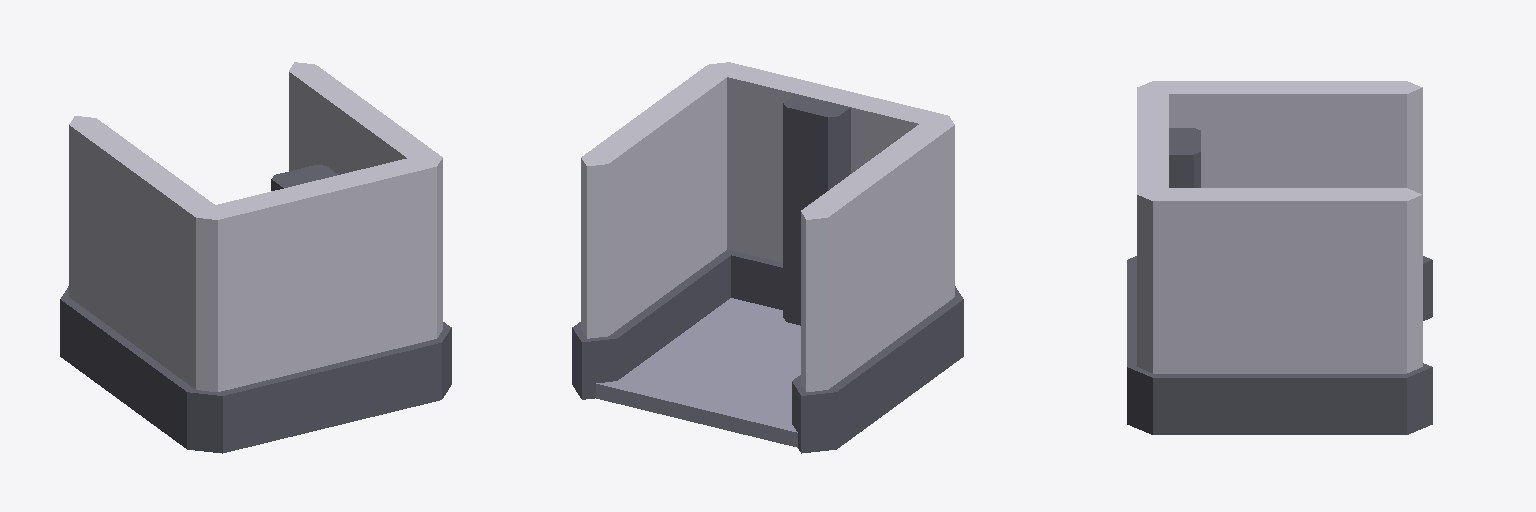
File: sm_hallway_end_01.obj
3 views of the same model, side by side, from view 1: azimuth 30°, elevation 25°; view 2: azimuth 150°, elevation 25°; view 3: azimuth 270°, elevation 25° (orthographic).
Parts seen in each view (by area): view 1: wall_02_179, wall_01_172, wall_01_176; view 2: wall_01_172, wall_01_176, wall_02_179, floor_square_169; view 3: wall_01_176, wall_01_172, wall_02_179.
Boxes of the visible parts, x1=… form: wall_02_179: x1=187, y1=155, x2=441, y2=452; wall_01_172: x1=60, y1=116, x2=225, y2=453; wall_01_176: x1=289, y1=62, x2=451, y2=398; wall_01_172: x1=792, y1=116, x2=963, y2=453; wall_01_176: x1=572, y1=62, x2=735, y2=399; wall_02_179: x1=713, y1=62, x2=962, y2=325; floor_square_169: x1=596, y1=298, x2=800, y2=447; wall_01_176: x1=1127, y1=188, x2=1432, y2=434; wall_01_172: x1=1128, y1=81, x2=1432, y2=320; wall_02_179: x1=1127, y1=81, x2=1200, y2=376.
Size of the model in its own units: 1.21 by 1 by 1.21.